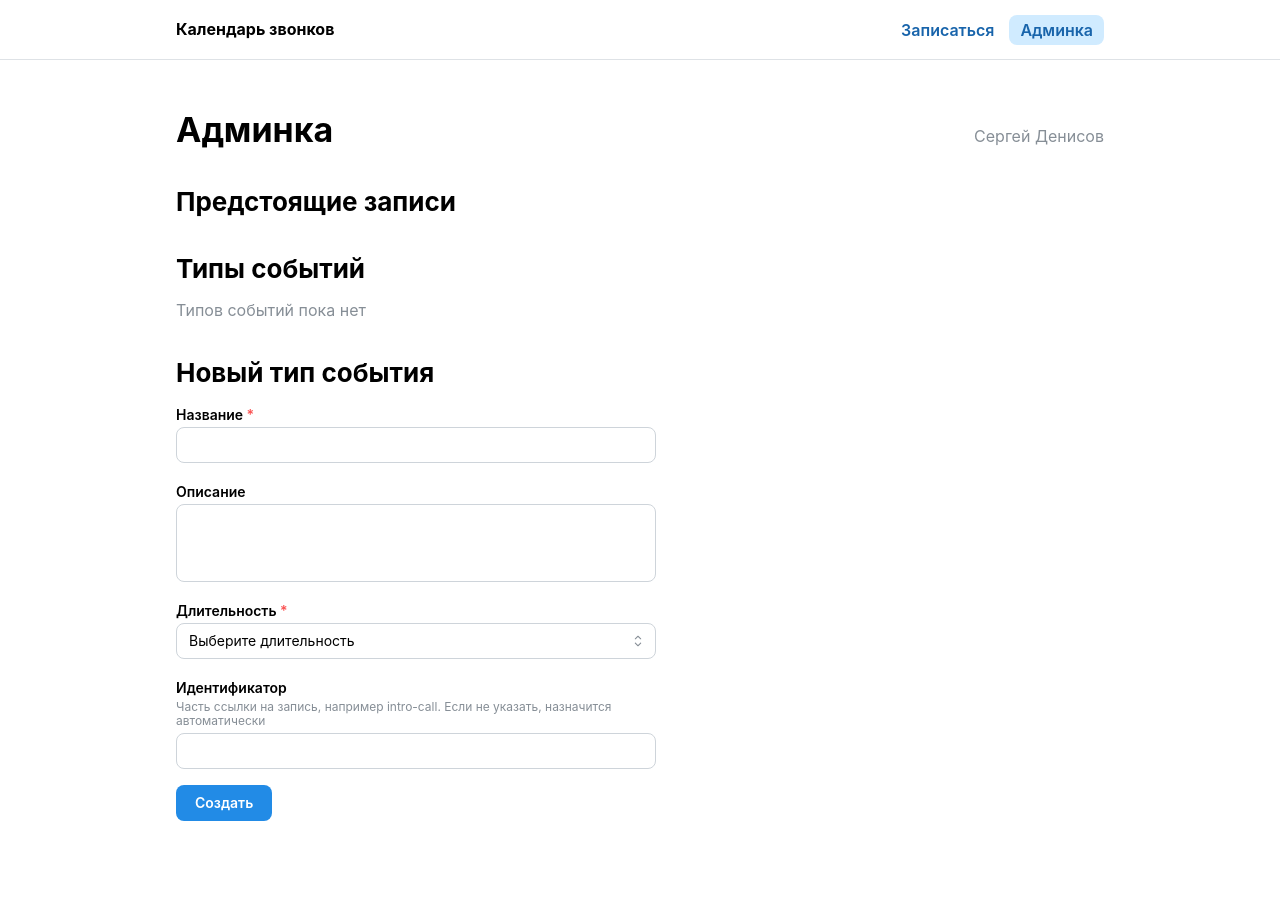
Test case: shows a taken name next to the name field
The width and height of the screenshot is (1280, 900).
Type "Знакомство" into the field labelled "Название" at [416, 445], box x1=176 y1=427 x2=656 y2=463
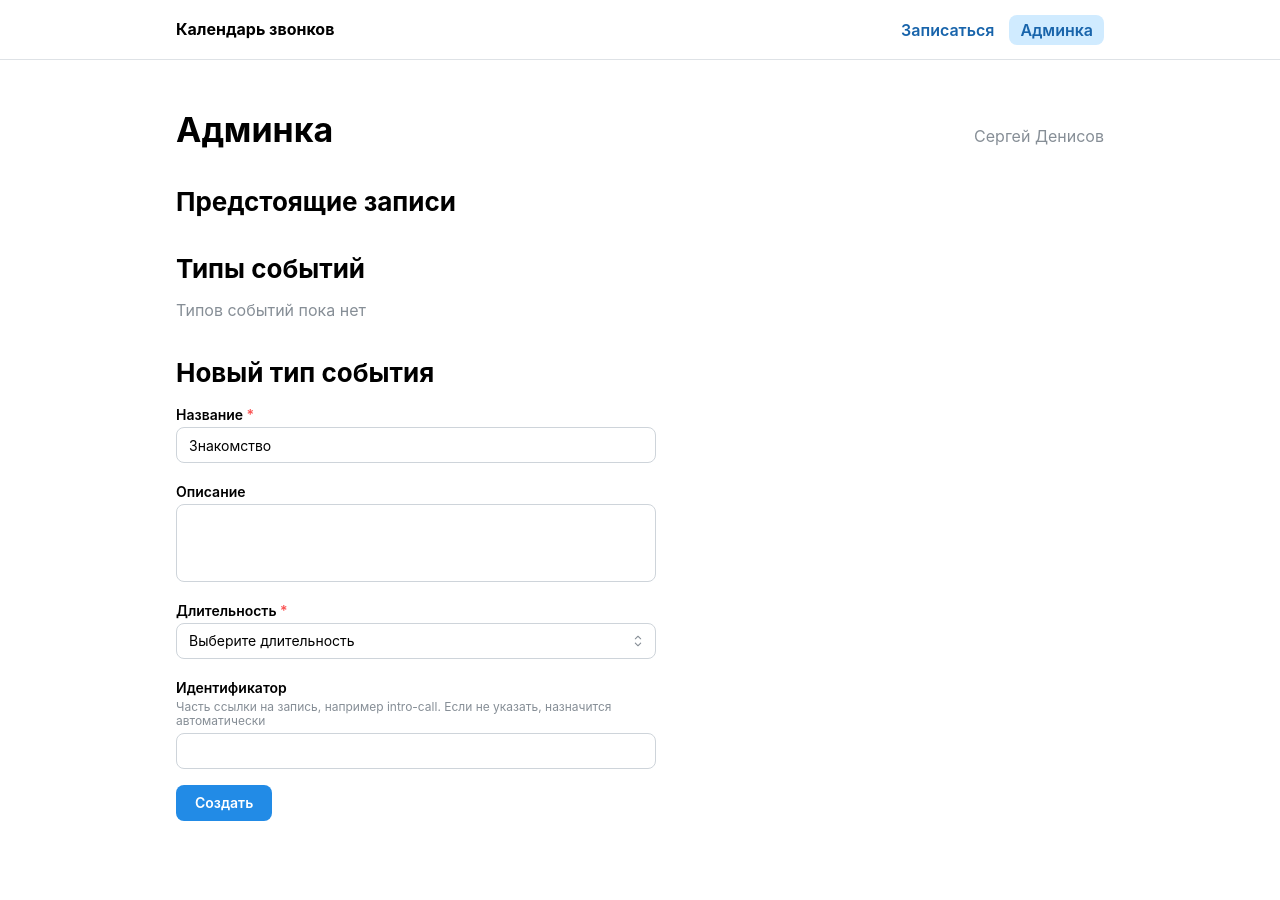
Select "30 мин" in the dropdown labelled "Длительность" at [416, 641], box x1=176 y1=623 x2=656 y2=659
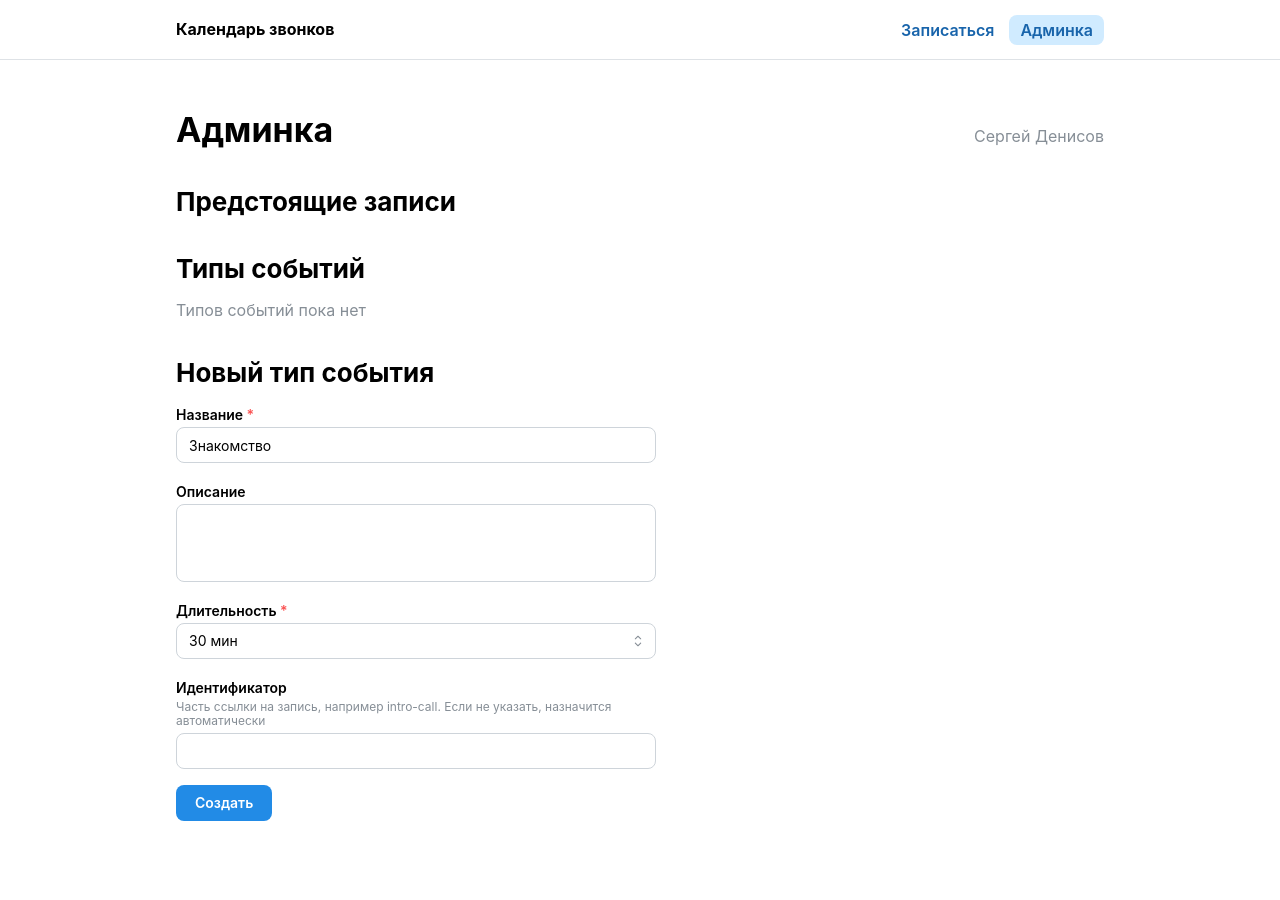
Click the button "Создать" at [224, 803], box x1=176 y1=785 x2=272 y2=821
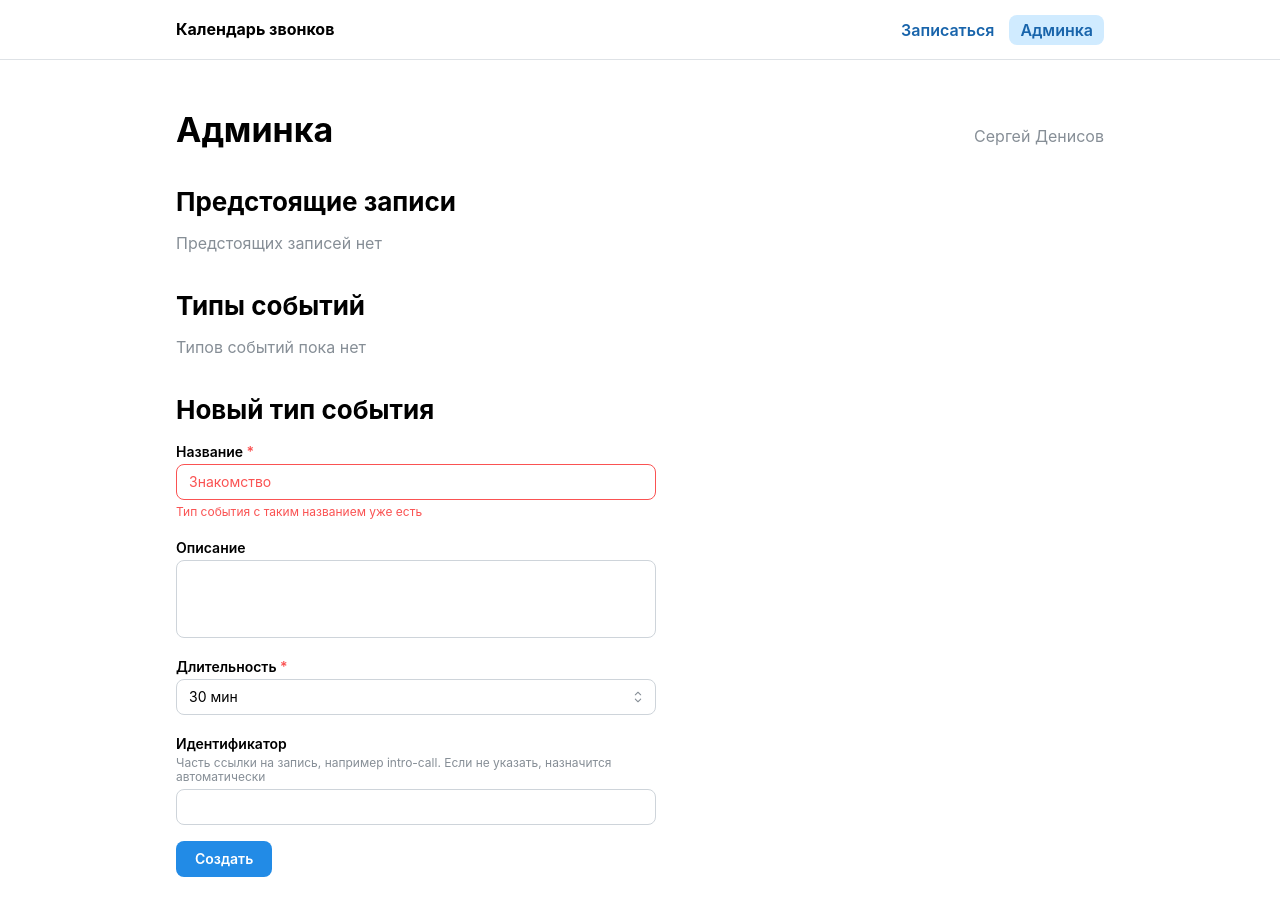
Check: the text "Тип события с таким названием уже есть" is shown, box x1=176 y1=504 x2=422 y2=519
